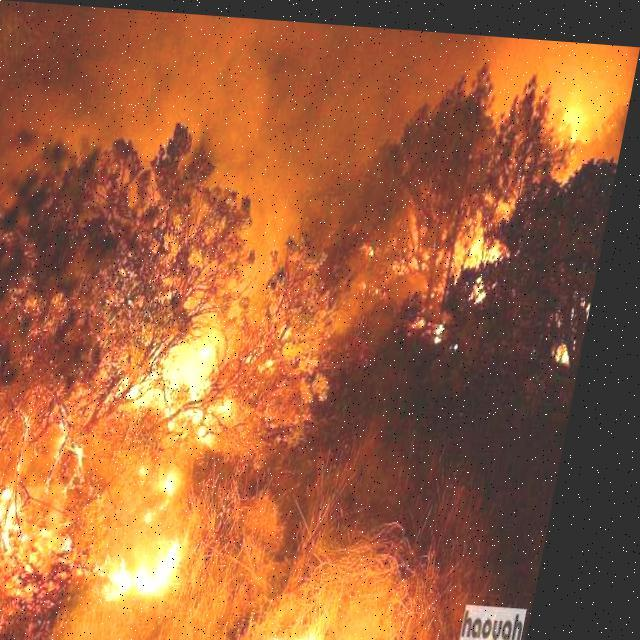Fire: (0, 413, 114, 599), (113, 462, 220, 600), (165, 334, 244, 438), (454, 210, 526, 300), (560, 88, 596, 139), (284, 614, 348, 639), (562, 322, 584, 356)
